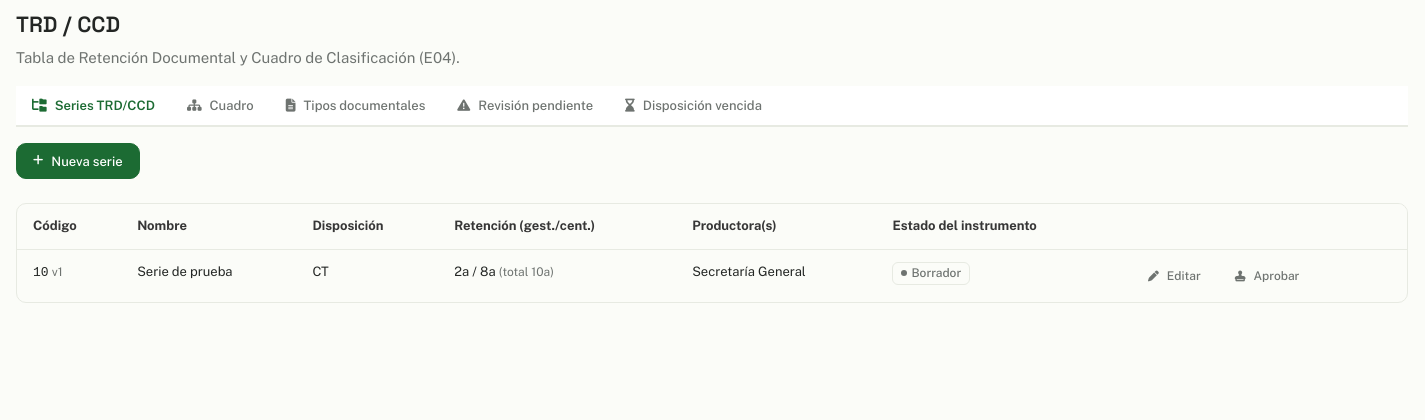
/admin/trd — Revisión pendiente (ADR-025 D4/D6) › distingue el motivo que el sistema resuelve del que no tiene vía automática
The image size is (1425, 420).
What coordinates should you click on to do the following:
click the tab "Revisión pendiente"
I would click on:
 (525, 107)
Its box is [441,86,609,127].
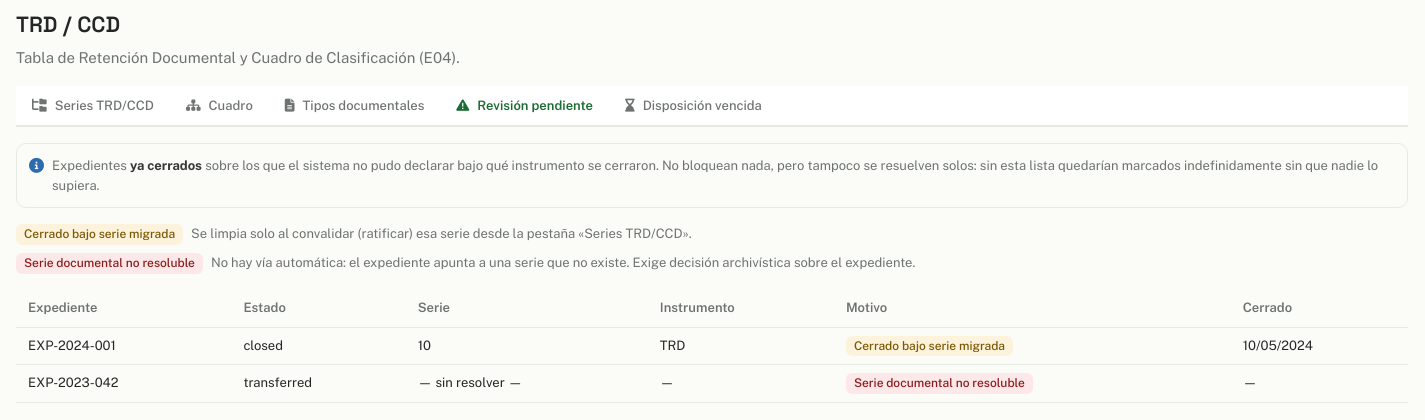
Expected: the text "Se limpia solo al convalidar" is shown, [191,226,692,241]
Expected: the text "No hay vía automática" is shown, [211,255,915,270]
